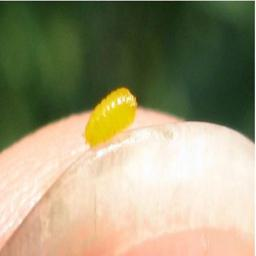liriomyza: (84, 85, 137, 151)
